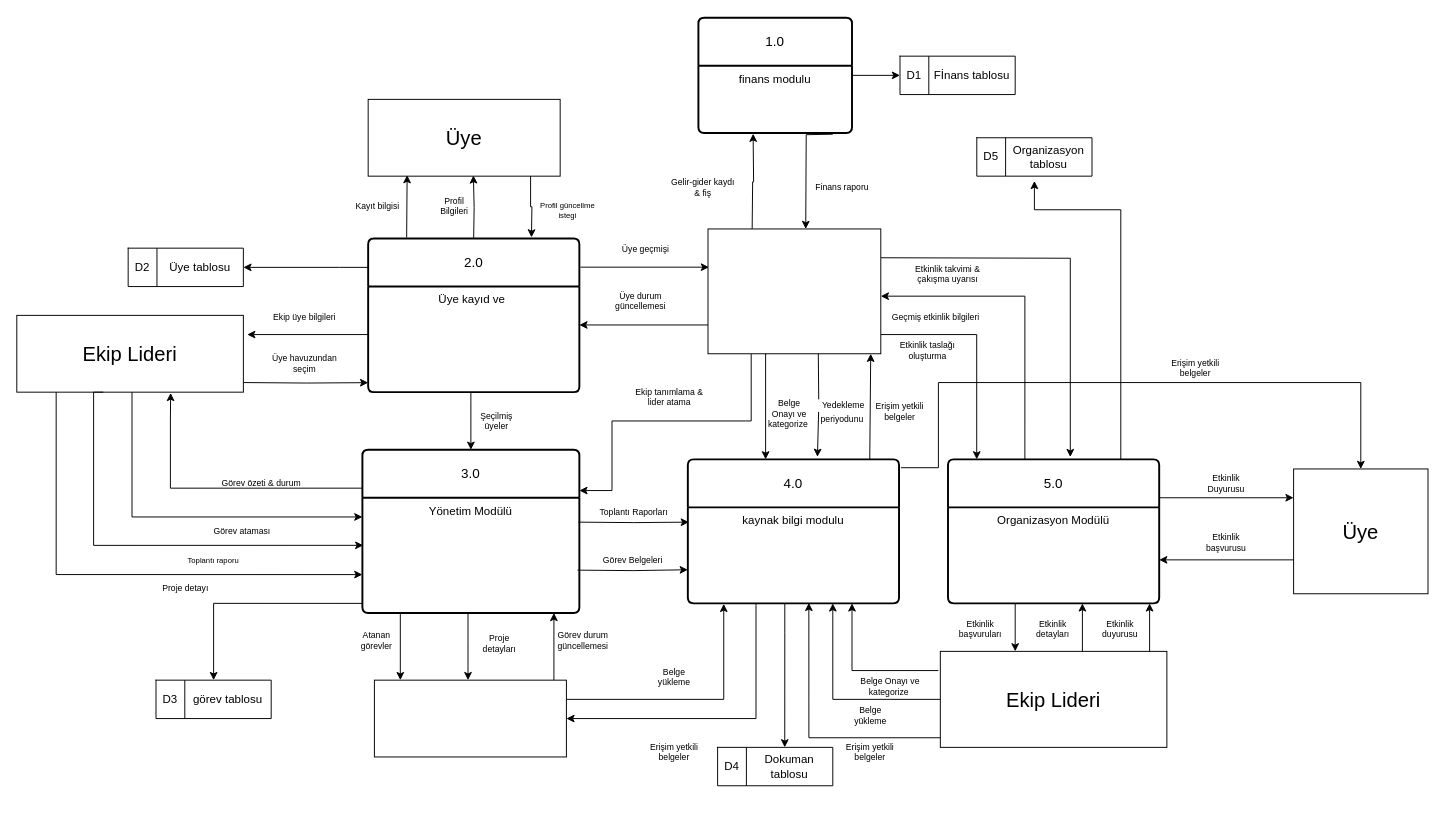
Image size: 1445x830. Some labels were removed from this diagram. Here are the shapes that lost their labels. From the top down, the centre of each, then its label:
At point (794, 291): "Kulup Yöneticisi".
At point (469, 718): "Ekip Uyesi".
